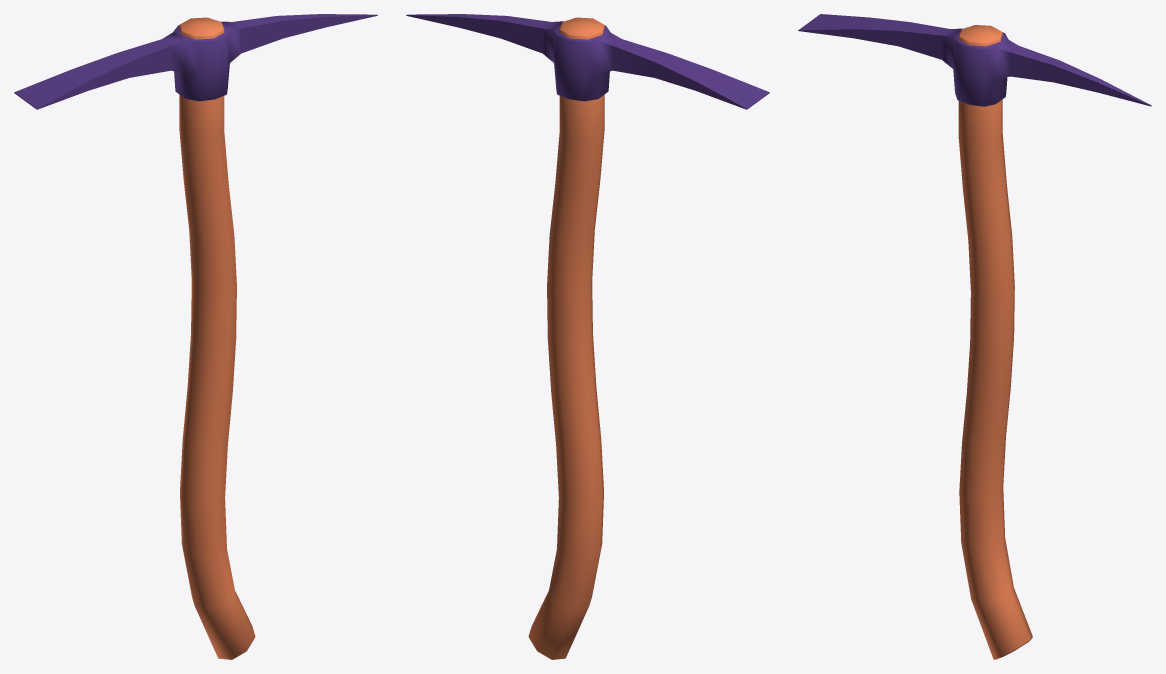
File: Cryonite_Pickaxe.fbx
3 views of the same model, side by side, from view 1: azimuth 30°, elevation 25°; view 2: azimuth 150°, elevation 25°; view 3: azimuth 330°, elevation 25° (orthographic). The views are drawn at different scales.
Parts seen in each view (by area): view 1: Cryonite_pickaxe; view 2: Cryonite_pickaxe; view 3: Cryonite_pickaxe.
Boxes of the visible parts, x1,y1,x2,y2 form: Cryonite_pickaxe: [14, 14, 377, 659]; Cryonite_pickaxe: [406, 14, 769, 659]; Cryonite_pickaxe: [798, 14, 1151, 659].
Size of the model in its own units: 0.2812 by 0.4875 by 0.0362.
